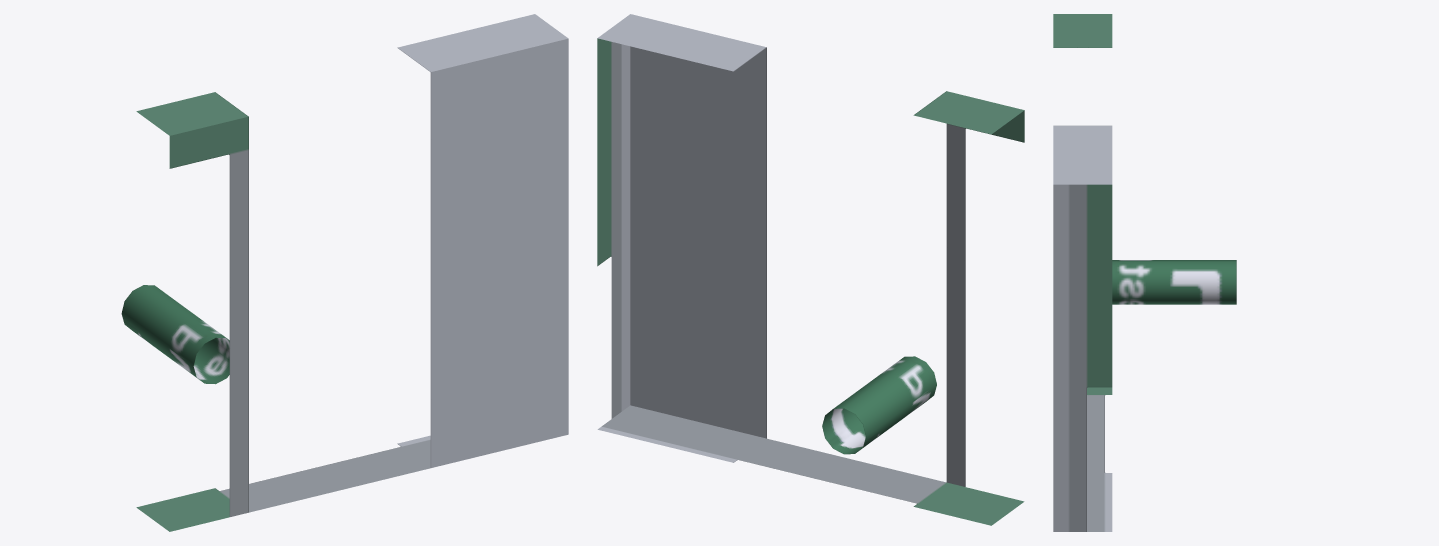
The model's file is section-1.obj.
3 renders of one model, left to right at view 1: azimuth 30°, elevation 25°; view 2: azimuth 150°, elevation 25°; view 3: azimuth 270°, elevation 25°, orthographic. The views are drawn at different scales.
Size of the model in its own units: 0.7842 by 0.7437 by 0.7206.
